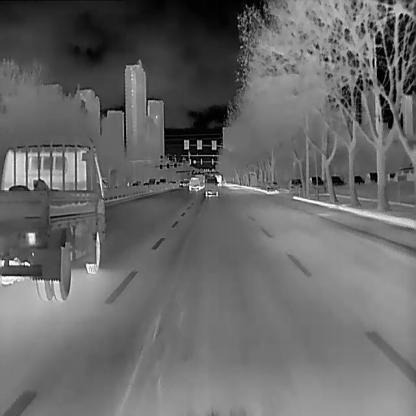car: (0, 137, 117, 301), (204, 177, 218, 198), (188, 177, 200, 192), (308, 176, 324, 186), (330, 176, 345, 186), (287, 178, 301, 188), (266, 180, 277, 190), (352, 176, 365, 184), (368, 172, 377, 182)
